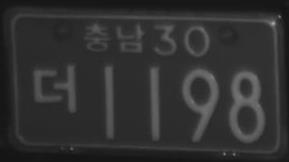0: (182, 24, 211, 58)
1: (89, 63, 129, 141), (136, 63, 172, 143)
3: (151, 22, 178, 57)
8: (227, 69, 267, 145)
9: (179, 66, 221, 143)
더: (30, 62, 79, 114)
충남_O: (82, 21, 146, 54)
